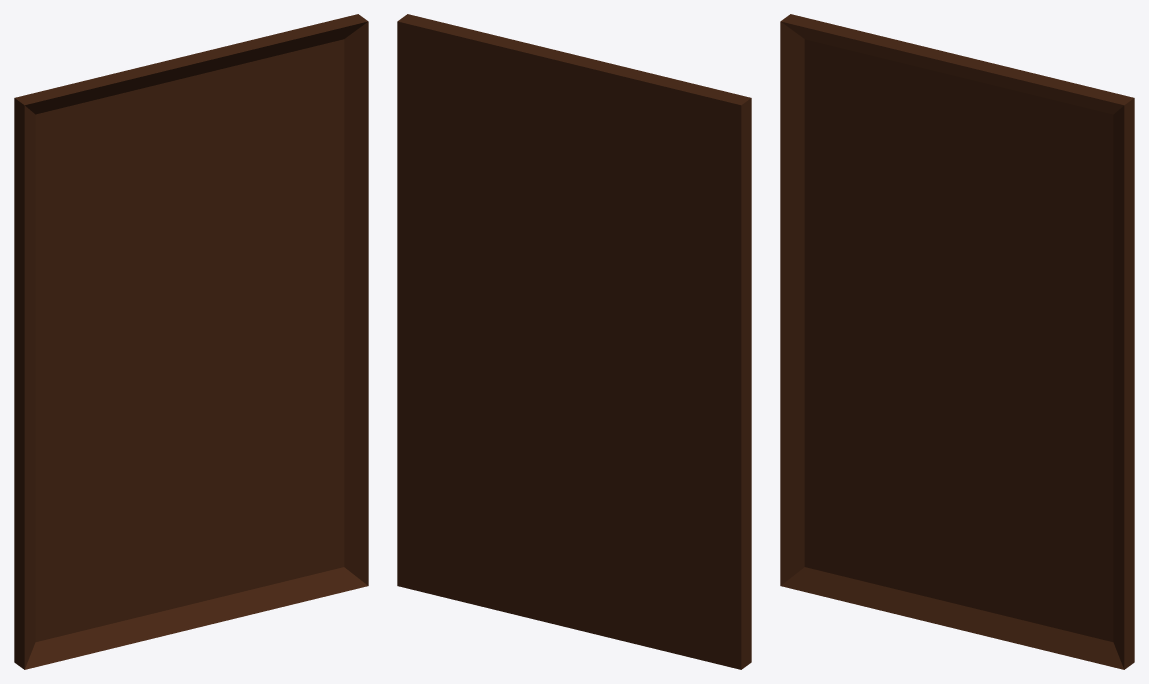
Rendered from Small Painting.FBX.
3 views of the same model, side by side, from view 1: azimuth 30°, elevation 25°; view 2: azimuth 150°, elevation 25°; view 3: azimuth 330°, elevation 25° (orthographic).
Parts seen in each view (by area): view 1: Box001; view 2: Box001; view 3: Box001.
Part boxes in pixels (x1,y1,x2,y2): Box001: (14,14,368,669); Box001: (397,14,751,669); Box001: (780,14,1134,669).
Bounding box in the file's own units: 19.54 × 30.66 × 1.
